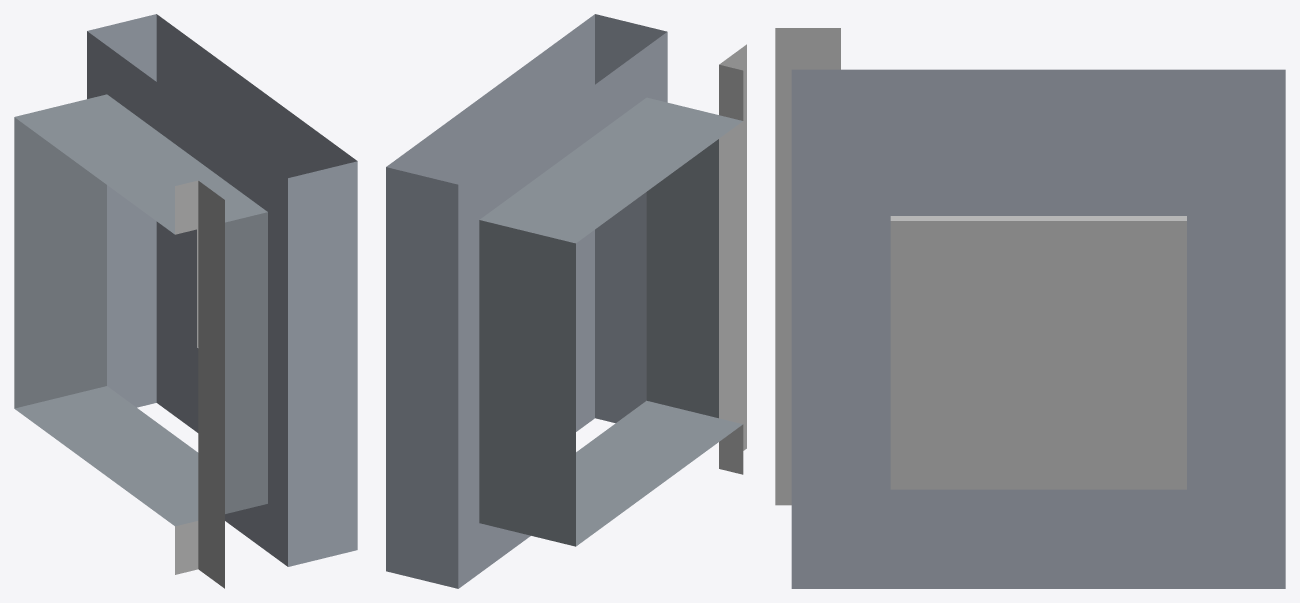
The model's file is cell_96.obj.
The picture shows the model from 3 angles, left to right: view 1: azimuth 30°, elevation 25°; view 2: azimuth 150°, elevation 25°; view 3: azimuth 270°, elevation 25°; orthographic projection. The views are drawn at different scales.
Size of the model in its own units: 0.4609 by 1 by 0.9688.
